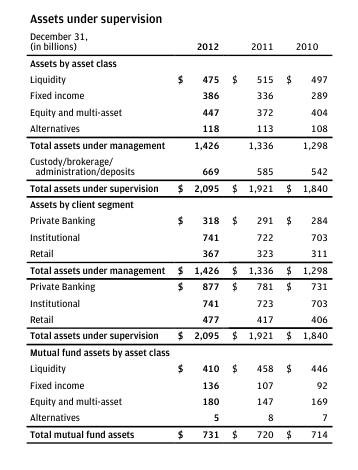table: (28, 29, 327, 439)
table column: (28, 29, 170, 439), (170, 29, 224, 439), (224, 29, 278, 439), (278, 29, 327, 439)
table column header: (28, 29, 327, 53)
table projected row header: (28, 53, 327, 70), (28, 342, 327, 359), (28, 195, 327, 211)
table row: (28, 152, 327, 178), (28, 29, 327, 53), (28, 53, 327, 70), (28, 86, 327, 103), (28, 135, 327, 152), (28, 178, 327, 195), (28, 211, 327, 228), (28, 260, 327, 277), (28, 293, 327, 310), (28, 342, 327, 359), (28, 375, 327, 392), (28, 408, 327, 425), (28, 70, 327, 86), (28, 103, 327, 119), (28, 119, 327, 135), (28, 195, 327, 211), (28, 228, 327, 244), (28, 244, 327, 260), (28, 277, 327, 293), (28, 310, 327, 326), (28, 326, 327, 342), (28, 359, 327, 375), (28, 392, 327, 408), (28, 425, 327, 439)
